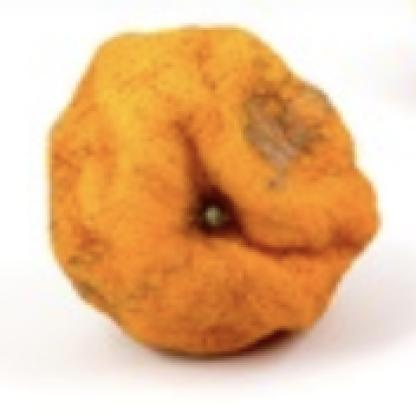rotten: (50, 26, 380, 366)
